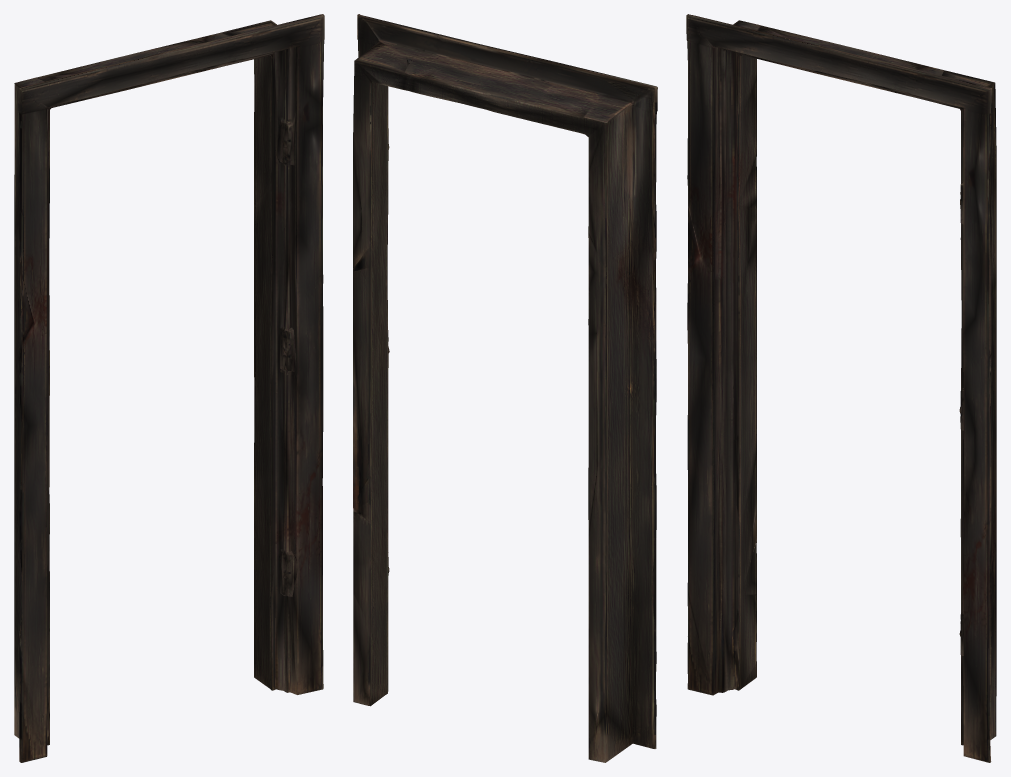
Rendered from doorframe01.obj.
3 renders of one model, left to right at view 1: azimuth 30°, elevation 25°; view 2: azimuth 150°, elevation 25°; view 3: azimuth 330°, elevation 25°, orthographic.
Visible parts, largest first — view 1: Meshy_AI_Vacant_Doorframe_0715231954_texture; view 2: Meshy_AI_Vacant_Doorframe_0715231954_texture; view 3: Meshy_AI_Vacant_Doorframe_0715231954_texture.
Part boxes in pixels (x1,y1,x2,y2): Meshy_AI_Vacant_Doorframe_0715231954_texture: [14, 14, 324, 762]; Meshy_AI_Vacant_Doorframe_0715231954_texture: [353, 14, 657, 762]; Meshy_AI_Vacant_Doorframe_0715231954_texture: [686, 14, 996, 762].
Size of the model in its own units: 0.8984 by 1.9 by 0.1532.
1 material, 1 textured.
